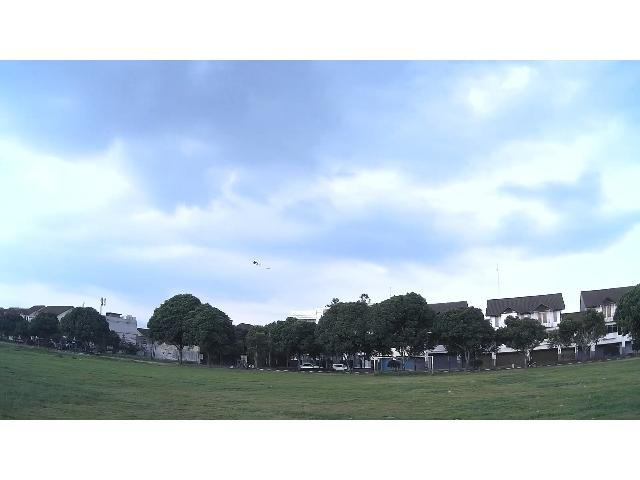Anti-Drone: (234, 244, 282, 278)
